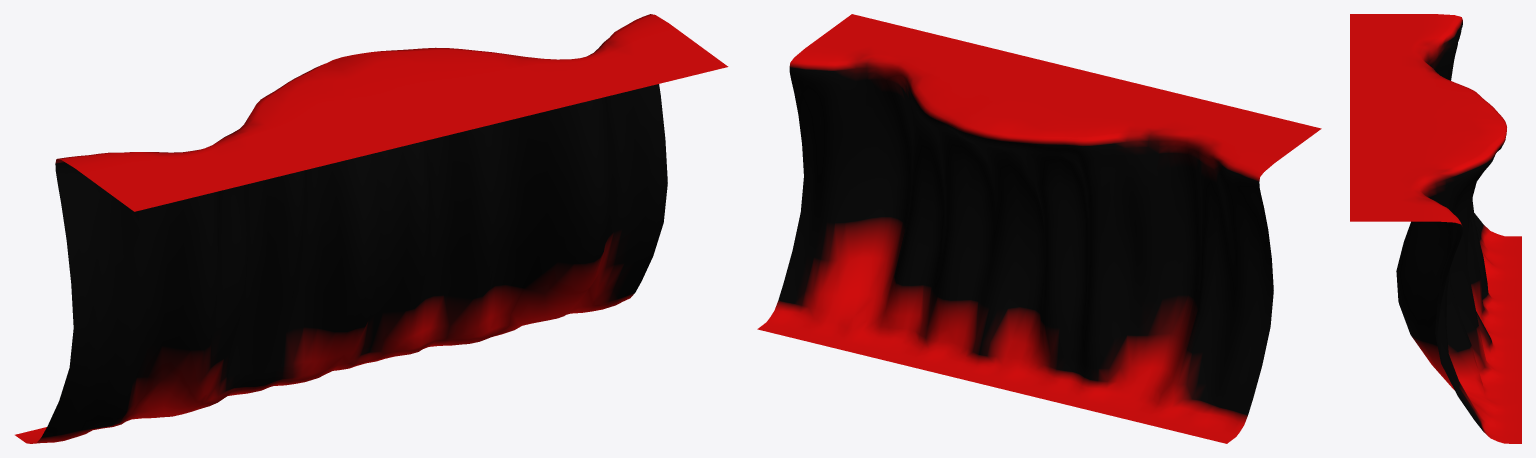
File: GroundCliff02D 2M Foreground.fbx
3 views of the same model, side by side, from view 1: azimuth 30°, elevation 25°; view 2: azimuth 150°, elevation 25°; view 3: azimuth 270°, elevation 25° (orthographic). The views are drawn at different scales.
Parts seen in each view (by area): view 1: GroundCliff02D 2M Foreground; view 2: GroundCliff02D 2M Foreground; view 3: GroundCliff02D 2M Foreground.
Boxes of the visible parts, left/top/right/bottom form: GroundCliff02D 2M Foreground: left=15, top=14, right=728, bottom=443; GroundCliff02D 2M Foreground: left=757, top=14, right=1321, bottom=443; GroundCliff02D 2M Foreground: left=1350, top=14, right=1521, bottom=443.
Size of the model in its own units: 4 by 2 by 1.4.
